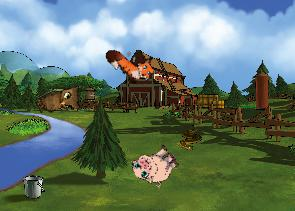fox: (102, 32, 163, 93)
owl: (33, 80, 87, 125)
pig: (127, 137, 183, 193)
